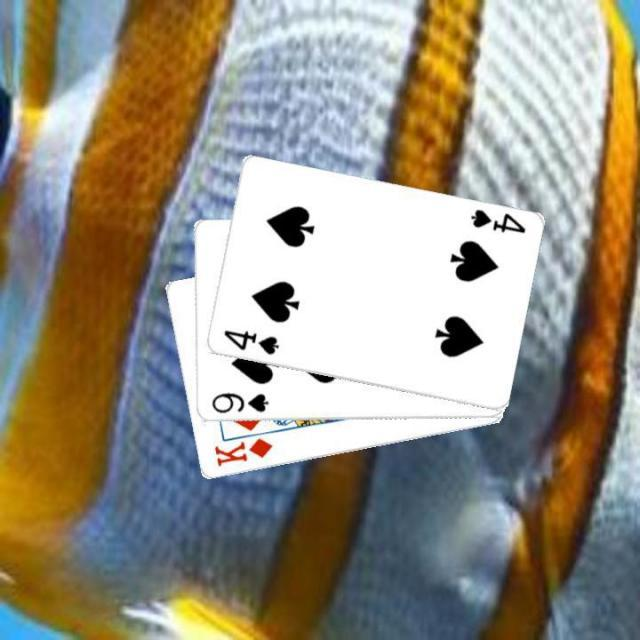4S: (218, 327, 280, 358), (466, 206, 528, 236)
9S: (207, 389, 270, 416)
KD: (210, 434, 274, 468)
